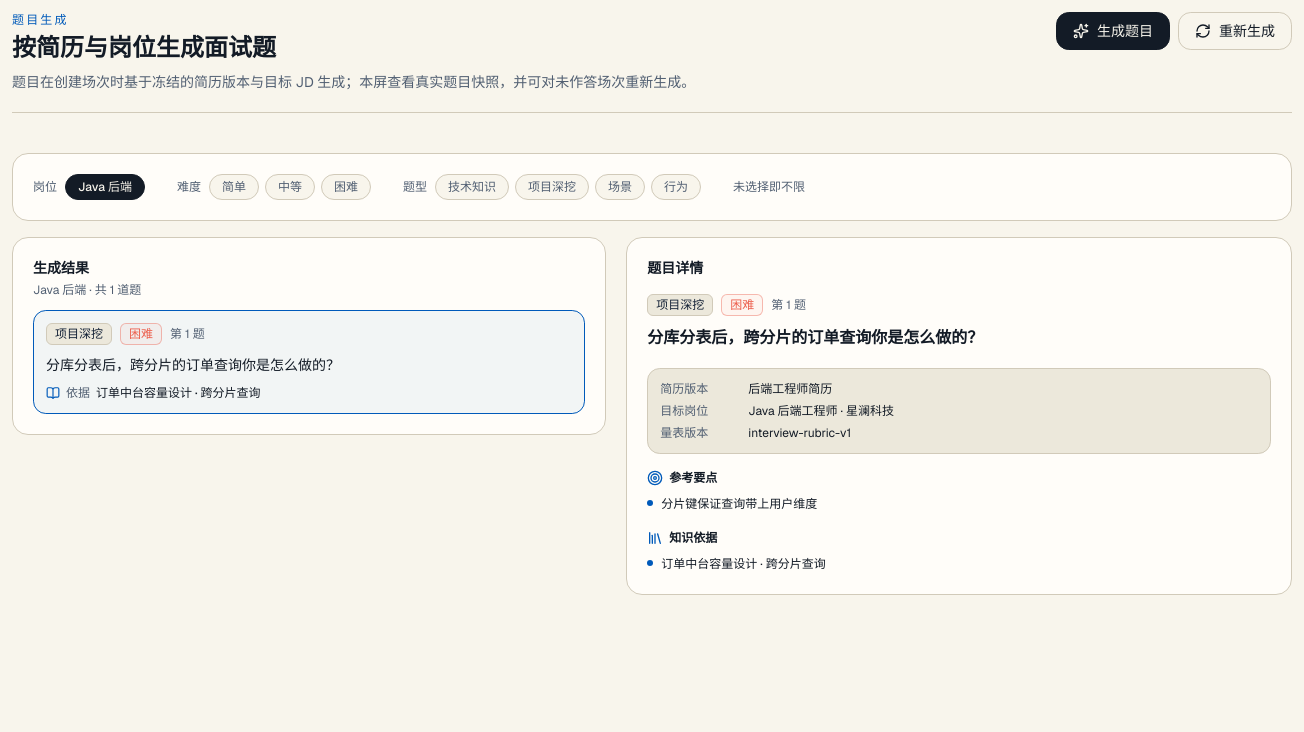
Test: QuestionsScreen › 难度/题型筛选驱动重新生成，题目详情展示知识依据
The width and height of the screenshot is (1304, 732).
expect the button "项目深挖" is shown: met, box x1=515 y1=174 x2=589 y2=200
expect the text "订单中台容量设计 · 跨分片查询" below "Java 后端 · 共 1 道题" is shown: met, box x1=96 y1=385 x2=260 y2=401
Click the button "困难" at (346, 187), box x1=321 y1=174 x2=371 y2=200
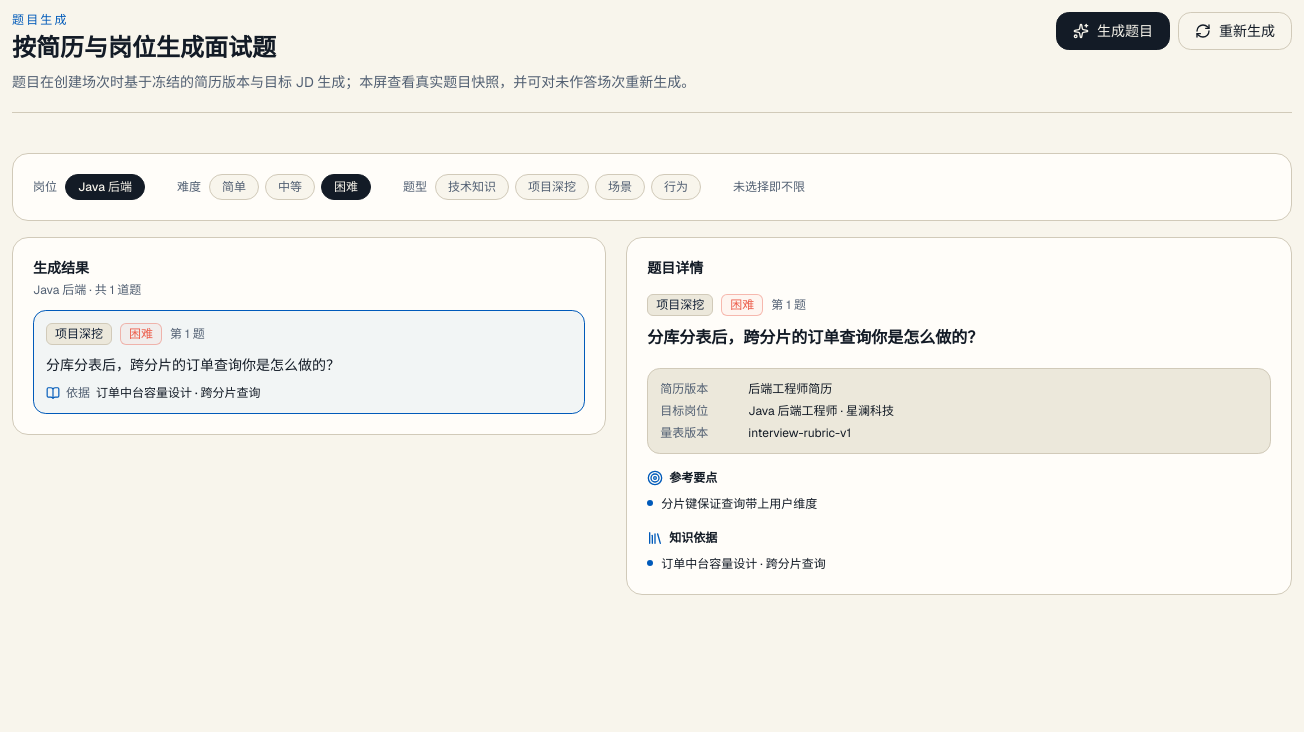
Click the button "项目深挖" at (552, 187), box x1=515 y1=174 x2=589 y2=200
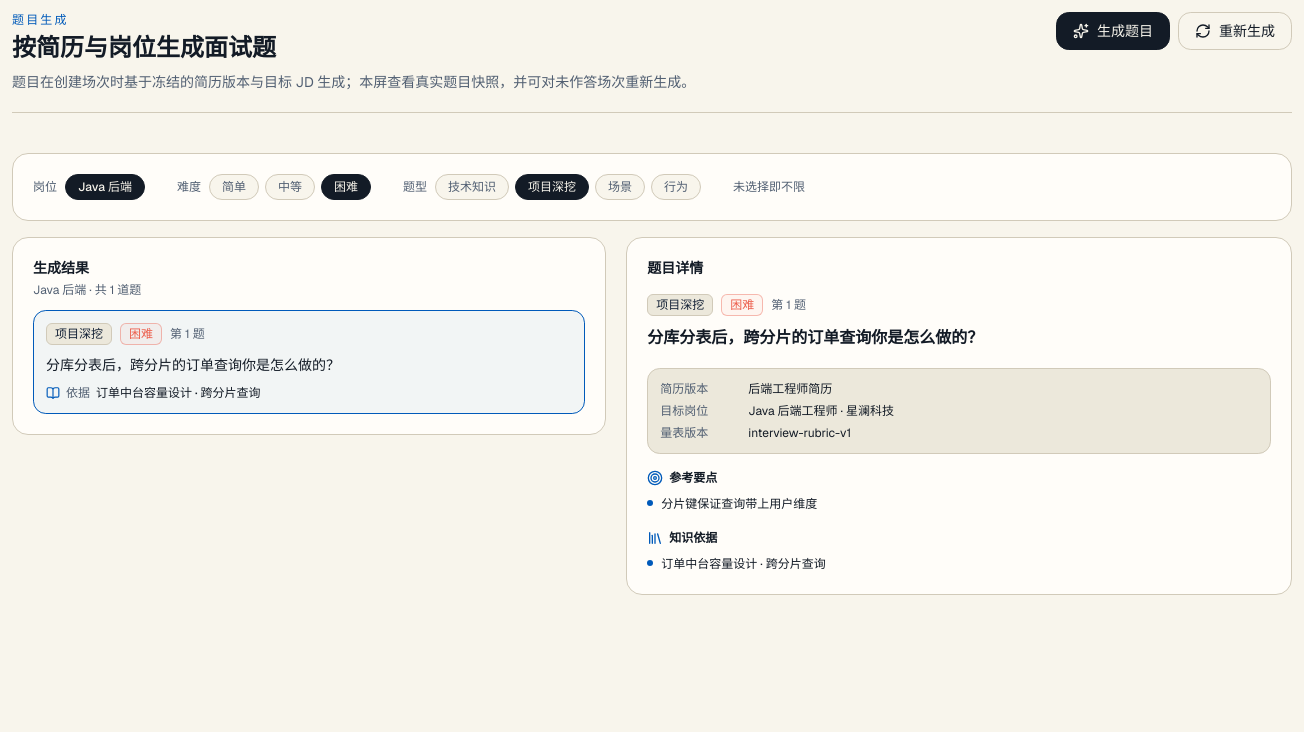
Click the button "重新生成" at (1235, 31), box x1=1178 y1=12 x2=1292 y2=50
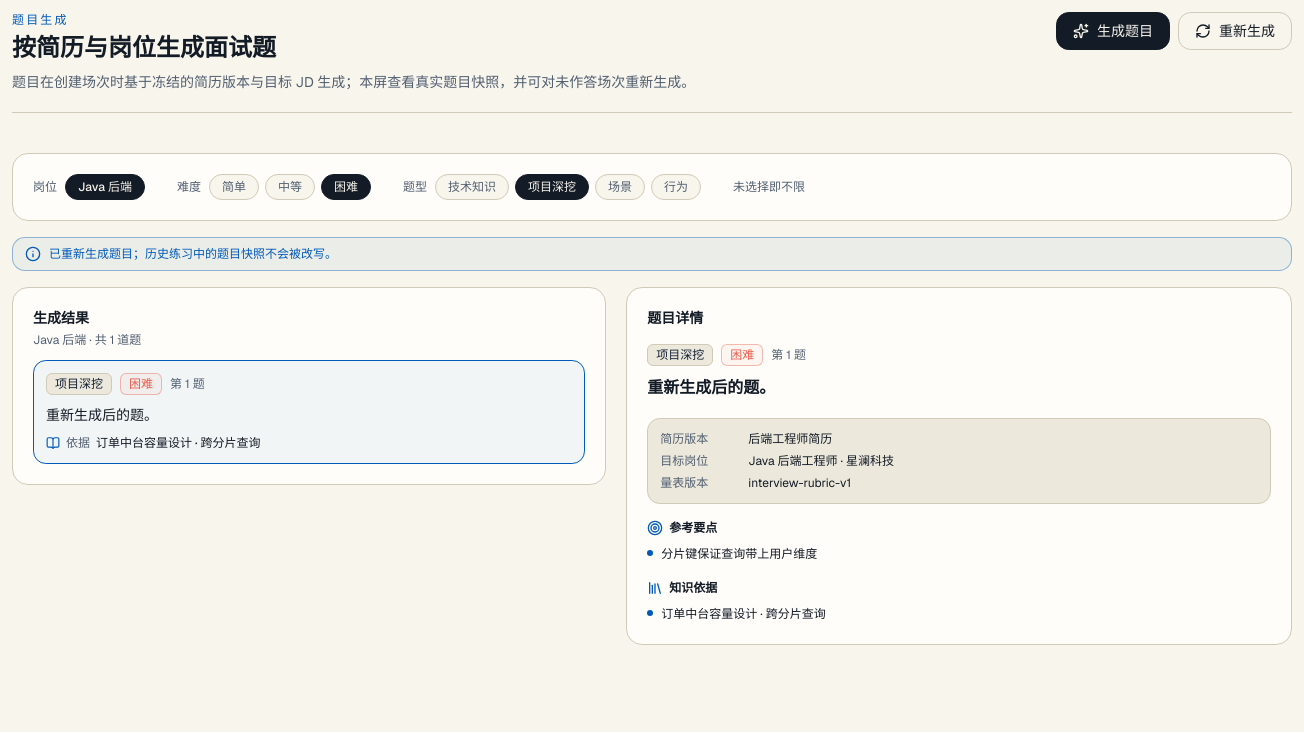
expect the text "重新生成后的题。" below "Java 后端 · 共 1 道题" is shown: met, box x1=46 y1=406 x2=158 y2=424
